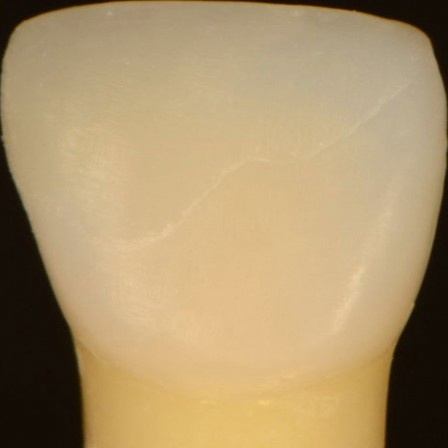coin_1: (72, 330, 92, 350)
coin_2: (15, 181, 35, 201)
coin_3: (395, 349, 415, 369)
coin_4: (415, 303, 435, 323)
